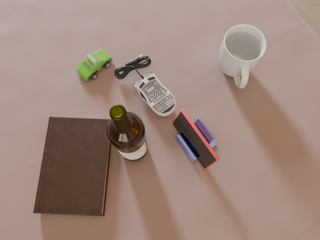book: (33, 117, 112, 216)
bottle: (106, 105, 148, 162)
cup: (219, 25, 266, 88)
mouse: (135, 74, 176, 116)
phone: (173, 109, 219, 169)
toy_car: (77, 49, 112, 81)
